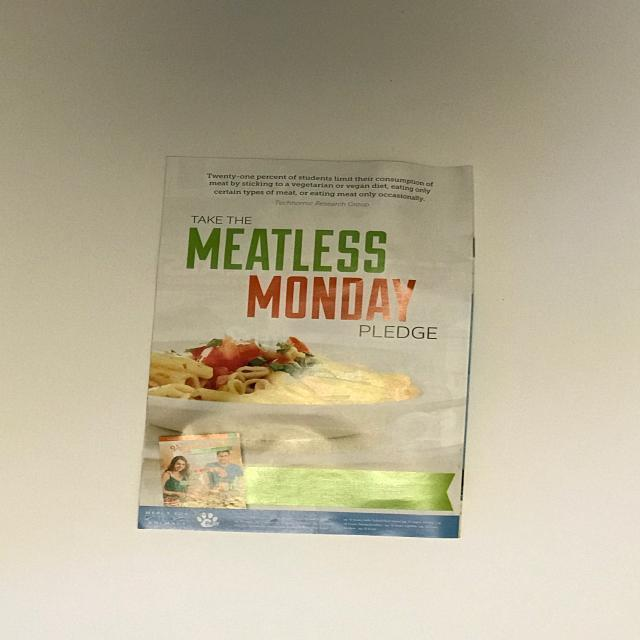paper: (140, 147, 478, 538)
